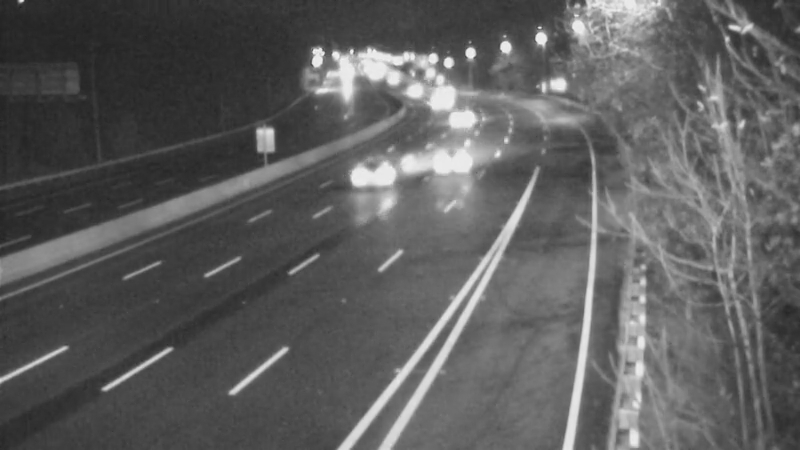vehicle: (416, 125, 496, 205), (324, 135, 404, 215), (365, 54, 415, 104), (384, 61, 434, 111), (417, 64, 467, 114), (409, 76, 459, 126), (432, 93, 482, 143)
